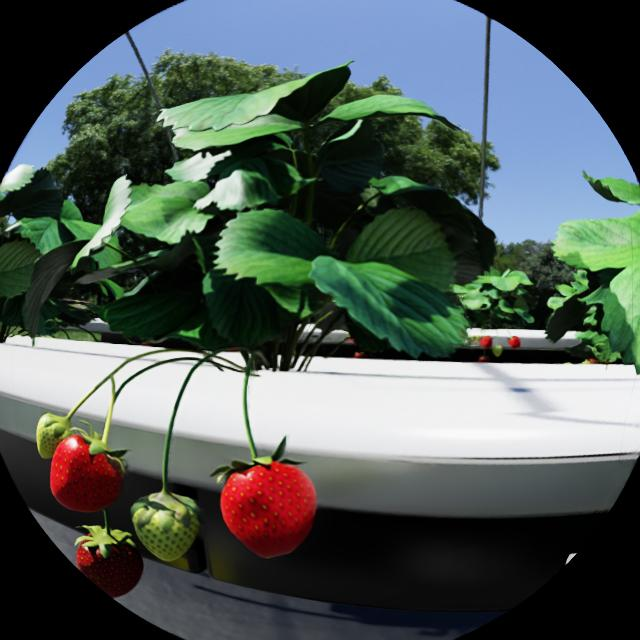Fruit-Stem-Detection: (162, 358, 206, 493), (242, 360, 259, 462), (103, 372, 117, 435)
